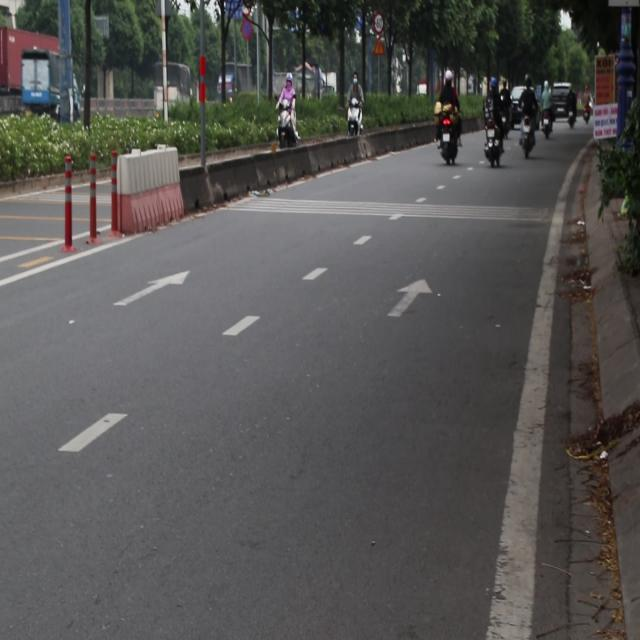car: (509, 91, 539, 128), (551, 83, 573, 117)
motorbike: (275, 101, 306, 152), (436, 107, 461, 167), (346, 92, 364, 148), (520, 115, 539, 165), (485, 120, 501, 176), (540, 105, 555, 142)
truck: (20, 46, 83, 128), (143, 50, 204, 130)
